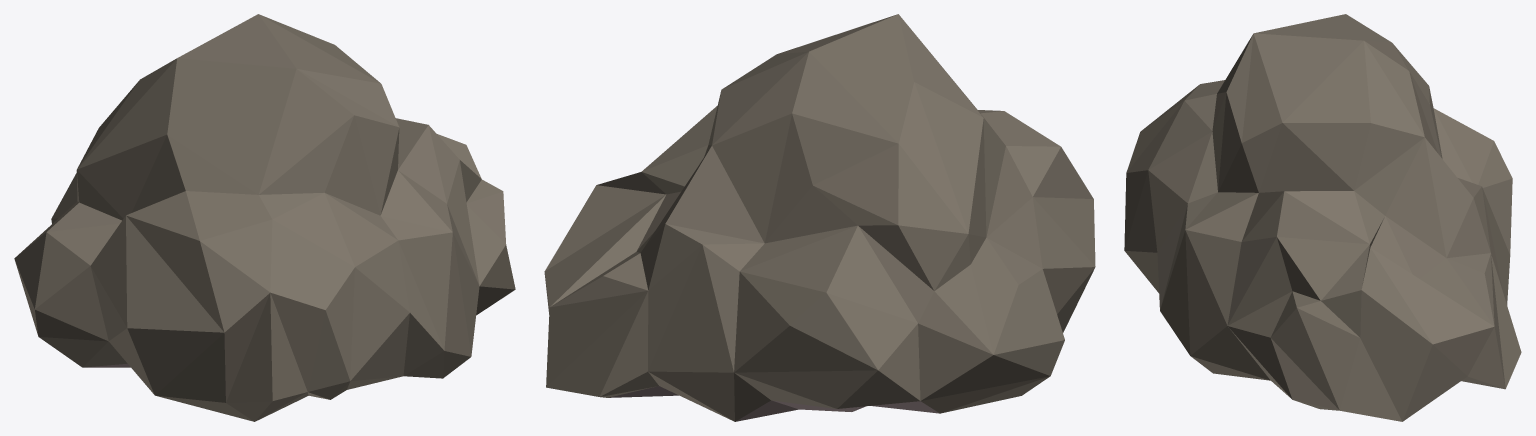
File: RockBig_06.glb
3 renders of one model, left to right at view 1: azimuth 30°, elevation 25°; view 2: azimuth 150°, elevation 25°; view 3: azimuth 270°, elevation 25°, orthographic. The views are drawn at different scales.
Visible parts, largest first — view 1: RockBig_06; view 2: RockBig_06; view 3: RockBig_06.
Part boxes in pixels (x1,y1,x2,y2): RockBig_06: (14, 14, 515, 421); RockBig_06: (544, 14, 1095, 421); RockBig_06: (1124, 14, 1521, 421).
Size of what is drawn, in the model's own units: 6.04 by 4.12 by 5.
1 material, 1 textured.
